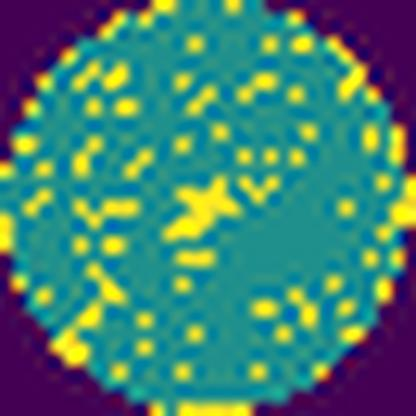Center: (164, 175, 250, 254)
